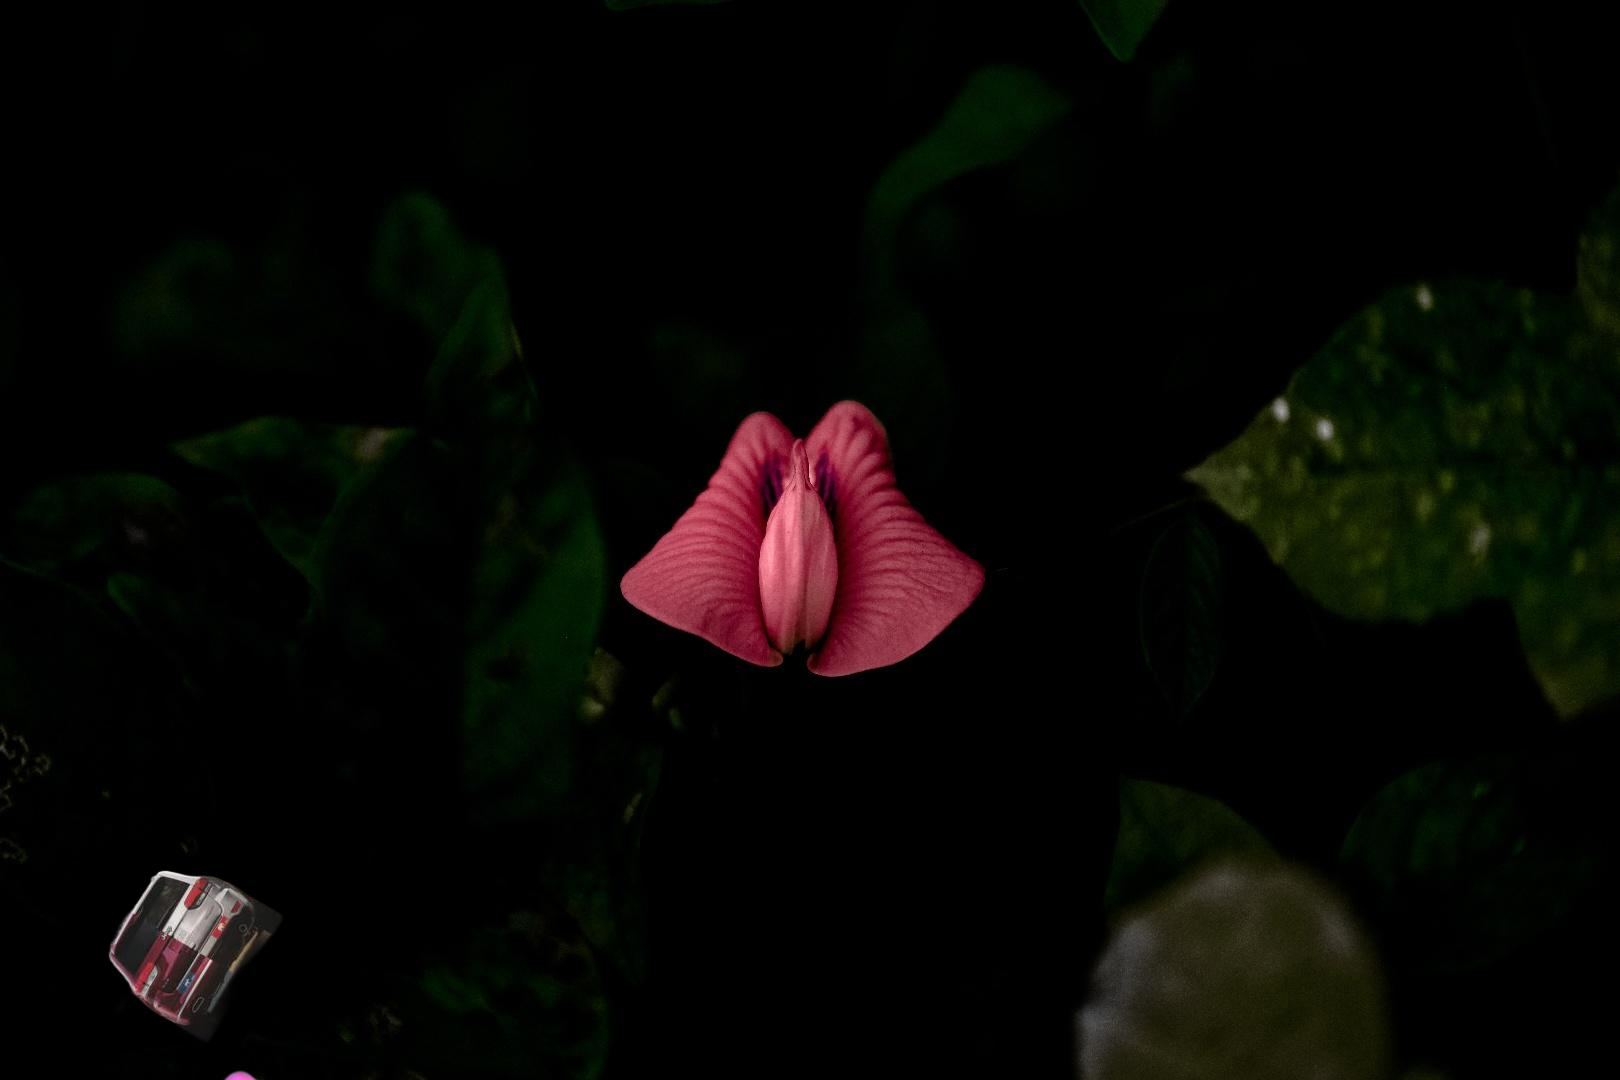battery: (40, 1066, 383, 1080)
paper: (94, 855, 288, 1047)
